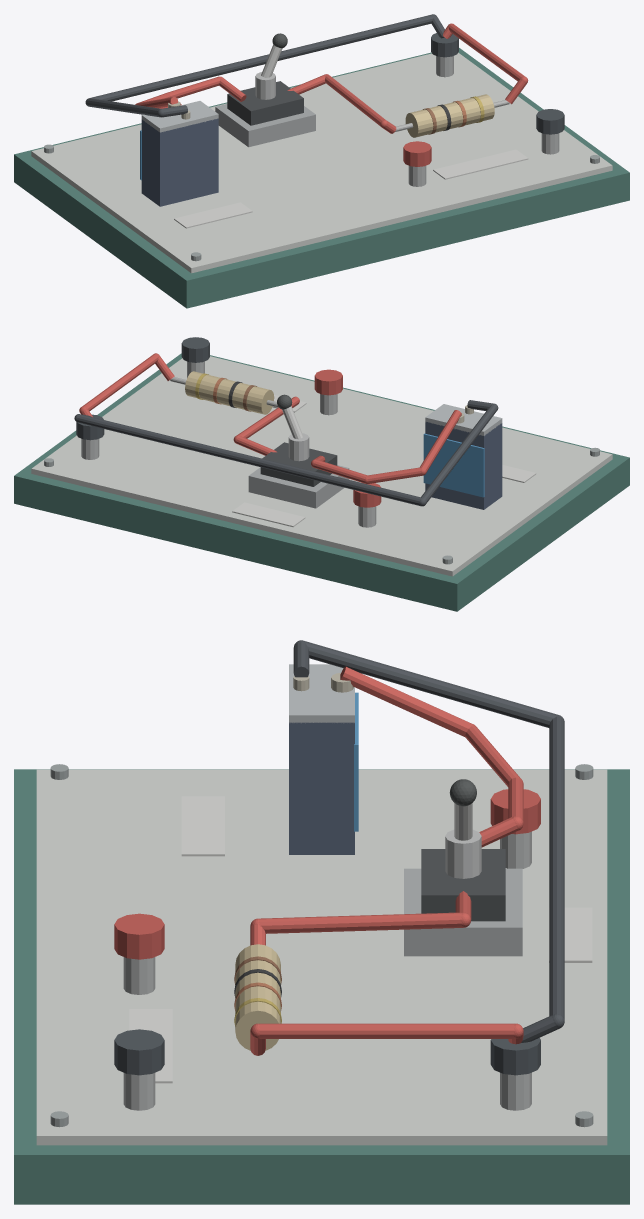
Rendered from etugen-circuit-realistic.glb.
3 renders of one model, top to bottom at view 1: azimuth 30°, elevation 25°; view 2: azimuth 150°, elevation 25°; view 3: azimuth 270°, elevation 25°, orthographic. The views are drawn at different scales.
Visible parts, largest first — view 1: raised white instrument plate, matte training board, 9V battery body, return to negative battery1, S1 switch metal mounting plate, S1 switch black housing, R1 resistor body, R1 label area, battery top, DC 9V label area, R1 to return post1, return to negative battery2 (+6 smaller); view 2: raised white instrument plate, matte training board, return to negative battery1, 9V battery body, battery blue stripe, S1 switch metal mounting plate, R1 resistor body, S1 switch black housing, return to negative battery2, battery top, S1 label area, R1 to return post1 (+10 smaller); view 3: raised white instrument plate, matte training board, 9V battery body, S1 switch metal mounting plate, return to negative battery1, S1 switch black housing, R1 to return post1, return to negative battery2, R1 resistor body, S1 to R11, battery top, DC 9V label area (+13 smaller).
Part boxes in pixels (left/top/right/bottom): raised white instrument plate: left=31, top=52, right=612, bottom=273; matte training board: left=14, top=48, right=629, bottom=308; 9V battery body: left=141, top=118, right=218, bottom=206; return to negative battery1: left=89, top=14, right=434, bottom=101; S1 switch metal mounting plate: left=215, top=104, right=315, bottom=147; S1 switch black housing: left=227, top=81, right=303, bottom=125; R1 resistor body: left=405, top=94, right=494, bottom=137; R1 label area: left=433, top=149, right=528, bottom=179; battery top: left=141, top=101, right=218, bottom=132; DC 9V label area: left=174, top=202, right=252, bottom=228; R1 to return post1: left=448, top=24, right=524, bottom=81; return to negative battery2: left=86, top=98, right=161, bottom=117; raised white instrument plate: left=31, top=356, right=612, bottom=576; matte training board: left=14, top=353, right=629, bottom=611; return to negative battery1: left=77, top=414, right=420, bottom=505; 9V battery body: left=425, top=422, right=502, bottom=509; battery blue stripe: left=423, top=433, right=484, bottom=497; S1 switch metal mounting plate: left=248, top=465, right=349, bottom=508; R1 resistor body: left=185, top=371, right=274, bottom=414; S1 switch black housing: left=260, top=442, right=337, bottom=486; return to negative battery2: left=420, top=405, right=497, bottom=503; battery top: left=425, top=404, right=502, bottom=435; S1 label area: left=232, top=502, right=305, bottom=527; R1 to return post1: left=82, top=354, right=158, bottom=411; raised white instrument plate: left=36, top=769, right=607, bottom=1145; matte training board: left=14, top=769, right=629, bottom=1204; 9V battery body: left=289, top=722, right=354, bottom=854; S1 switch metal mounting plate: left=404, top=868, right=522, bottom=956; return to negative battery1: left=549, top=716, right=564, bottom=1019; S1 switch black housing: left=421, top=849, right=505, bottom=921; R1 to return post1: left=258, top=1023, right=515, bottom=1038; return to negative battery2: left=303, top=641, right=558, bottom=727; R1 resistor body: left=235, top=944, right=280, bottom=1050; S1 to R11: left=258, top=912, right=463, bottom=933; battery top: left=289, top=664, right=354, bottom=723; DC 9V label area: left=181, top=796, right=224, bottom=856.
Bounding box in the file's own units: 0.4 × 0.119 × 0.27.
